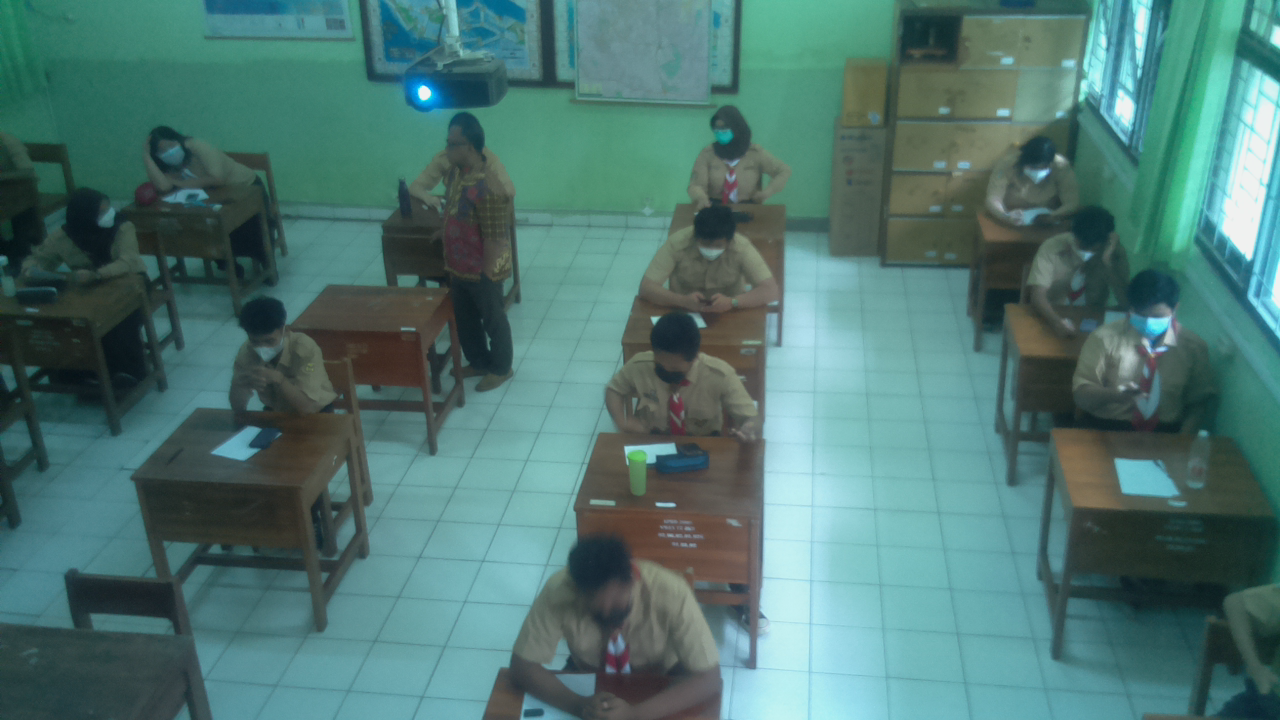Student: (1089, 265, 1217, 431), (543, 539, 702, 669), (619, 315, 741, 431), (235, 295, 338, 414), (445, 119, 515, 280), (659, 207, 768, 300), (43, 187, 143, 276), (1035, 209, 1129, 303), (691, 107, 777, 205), (135, 121, 252, 188), (989, 137, 1079, 214), (411, 116, 506, 183)
